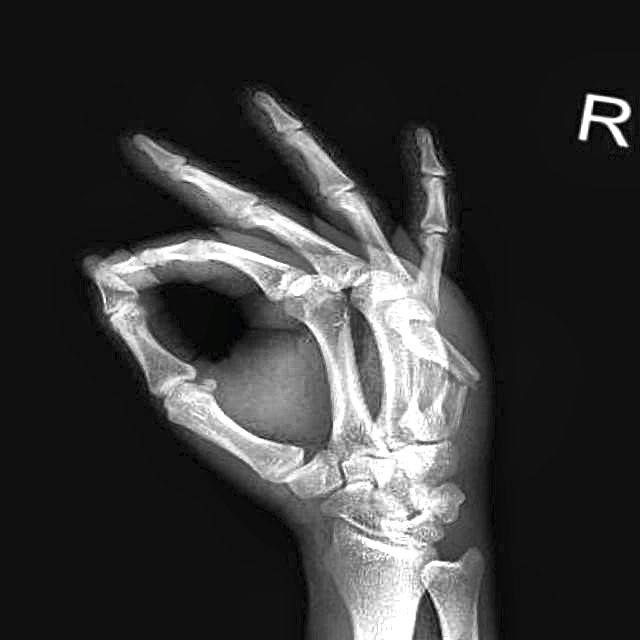Oblique: (392, 328, 491, 427)
